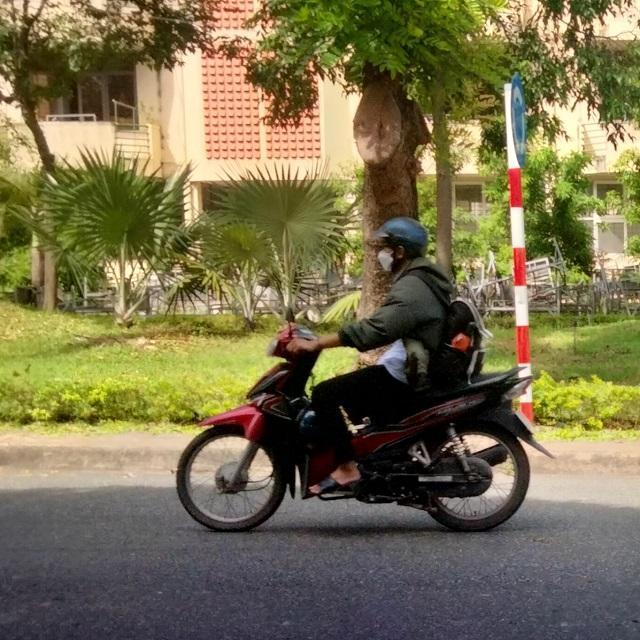Helmet: (366, 212, 430, 280)
